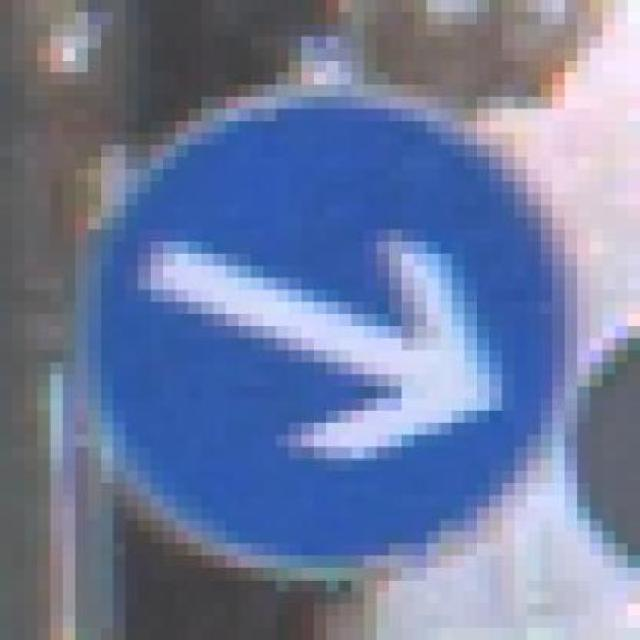Keep-Right: (62, 60, 590, 568)
